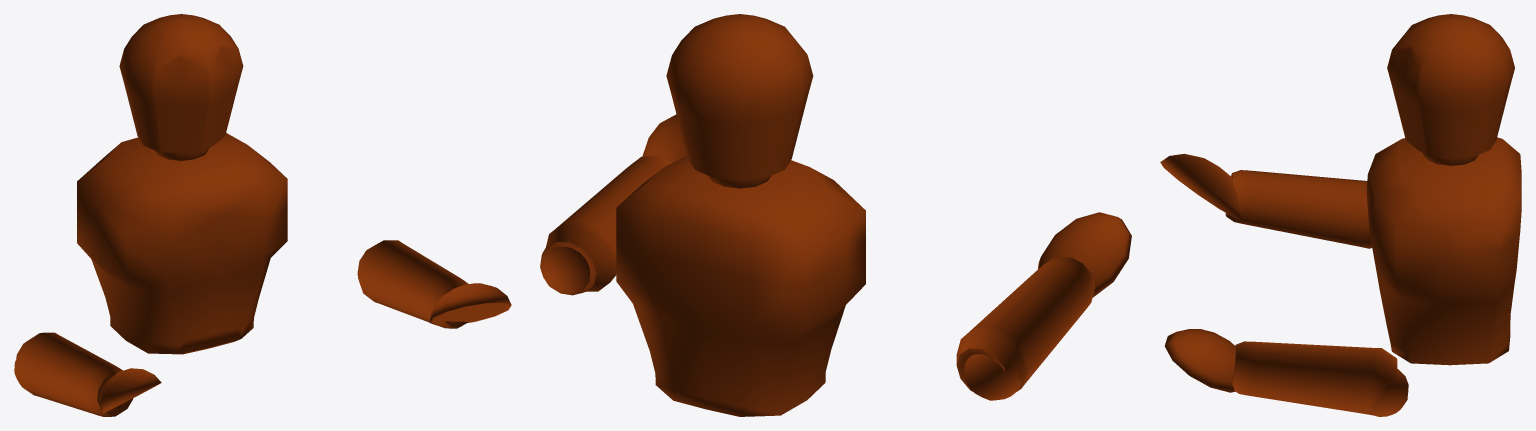
File: PlayerTest.FBX
3 renders of one model, left to right at view 1: azimuth 30°, elevation 25°; view 2: azimuth 150°, elevation 25°; view 3: azimuth 270°, elevation 25°, orthographic. The views are drawn at different scales.
Parts seen in each view (by area): view 1: dummy_obj; view 2: dummy_obj; view 3: dummy_obj.
Boxes of the visible parts, x1=… form: dummy_obj: x1=14, y1=14, x2=511, y2=416; dummy_obj: x1=540, y1=14, x2=1131, y2=416; dummy_obj: x1=1160, y1=14, x2=1521, y2=416.
Bounding box in the file's own units: 69.08 × 50.35 × 51.89.
